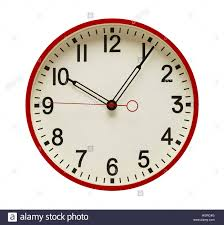alarm_clock: (24, 13, 197, 189), (24, 19, 197, 189), (29, 19, 197, 189)
